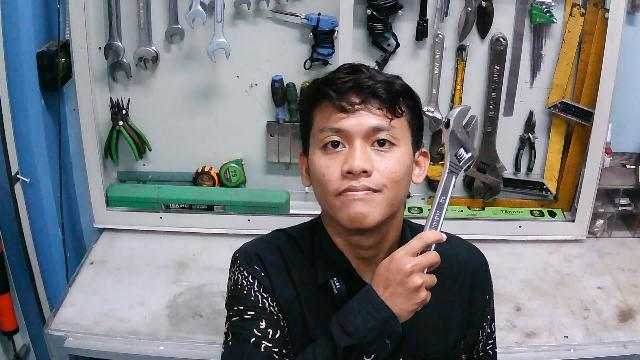kunci_inggris: (399, 103, 484, 295)
